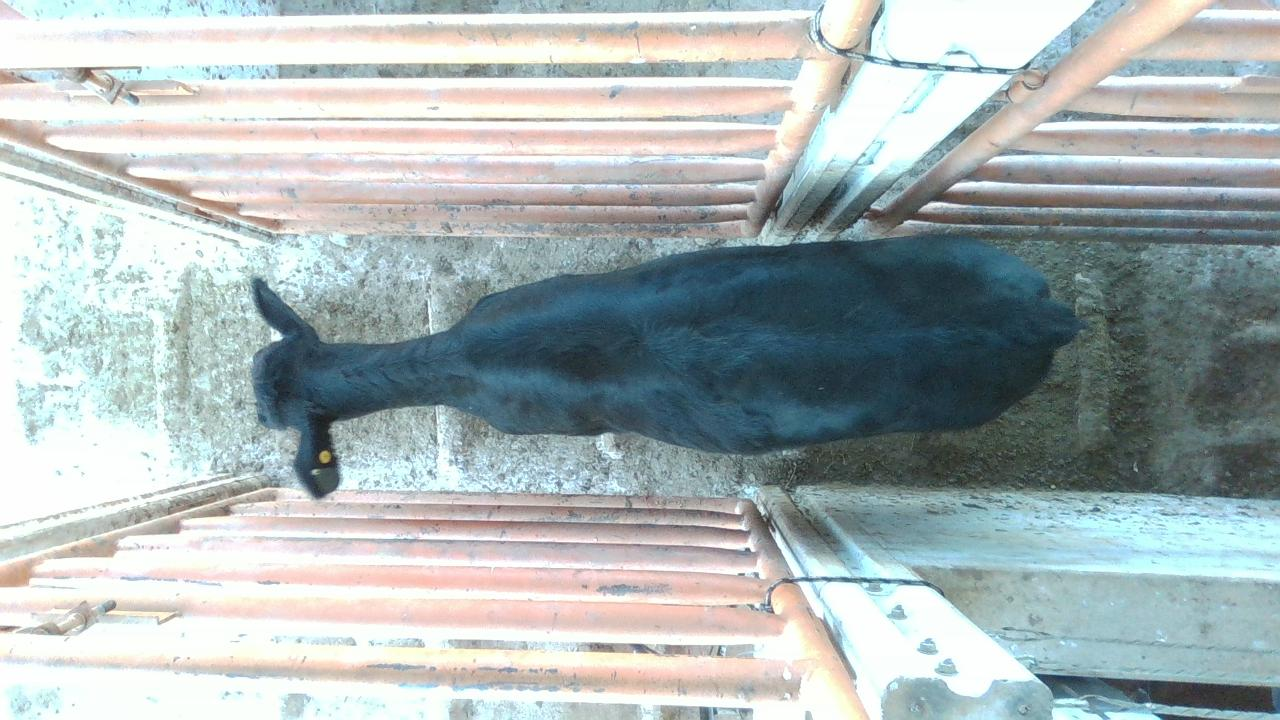cattle: (248, 232, 1089, 499)
